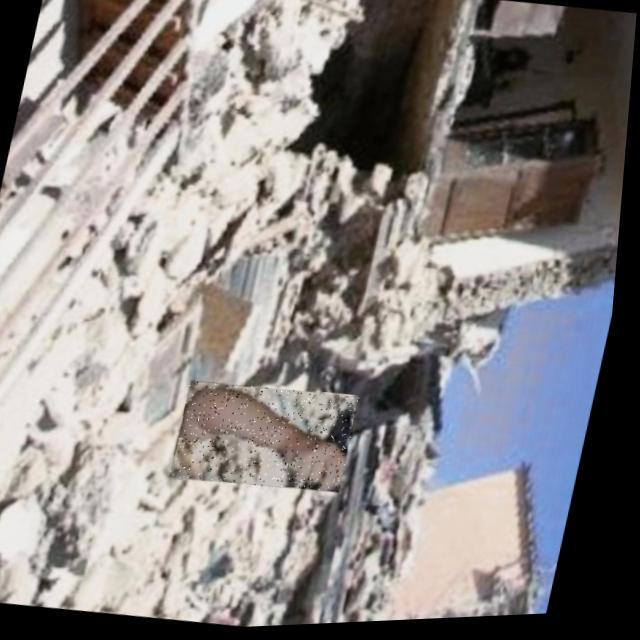Person in Rubble: (175, 376, 368, 503)
